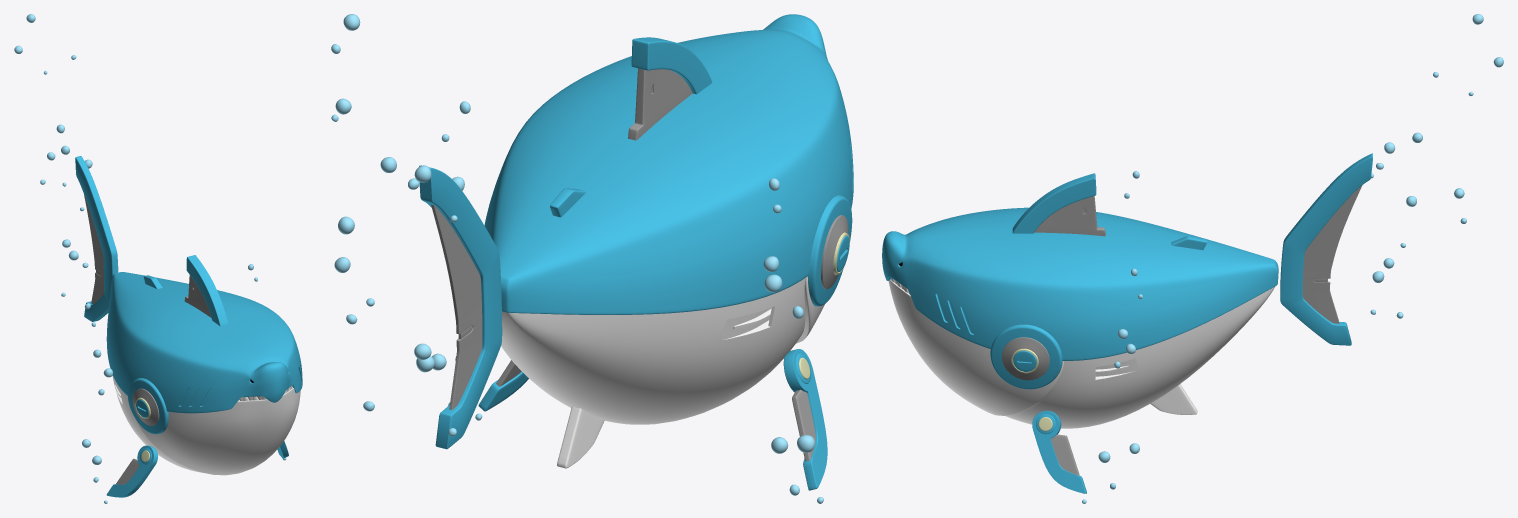
File: shark robot sketchfab.fbx
3 views of the same model, side by side, from view 1: azimuth 30°, elevation 25°; view 2: azimuth 150°, elevation 25°; view 3: azimuth 270°, elevation 25° (orthographic). The views are drawn at different scales.
Parts seen in each view (by area): view 1: Cube.001, Cube.002, Cube, Cube.007, Cube.005; view 2: Cube.001, Cube.002, Cube.007, Cube, Cube.005; view 3: Cube.001, Cube.002, Cube.007, Cube, Cube.005.
Boxes of the visible parts, box(x1,y1,x2,y2) form: Cube.001: box(75, 156, 302, 497); Cube.002: box(112, 375, 300, 475); Cube: box(96, 270, 292, 484); Cube.007: box(84, 195, 103, 304); Cube.005: box(132, 388, 159, 425); Cube.001: box(419, 14, 853, 490); Cube.002: box(501, 276, 824, 468); Cube.007: box(431, 204, 482, 409); Cube: box(458, 68, 815, 461); Cube.005: box(821, 215, 848, 289); Cube.001: box(882, 153, 1372, 493); Cube.002: box(888, 279, 1275, 428); Cube.007: box(1302, 185, 1362, 323); Cube: box(890, 196, 1327, 475); Cube.005: box(1001, 337, 1049, 380).
Size of the model in its own units: 683 by 1219 by 1586.
